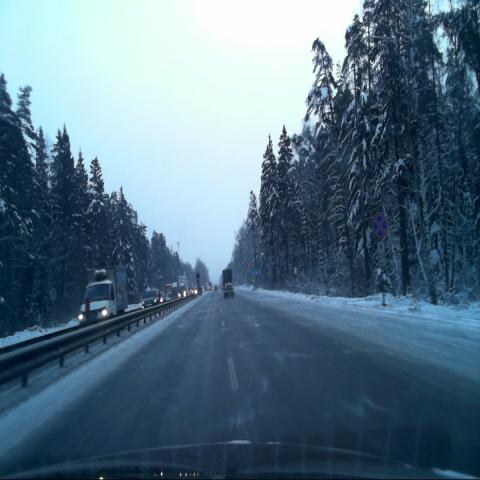3_27: (372, 210, 387, 241)
